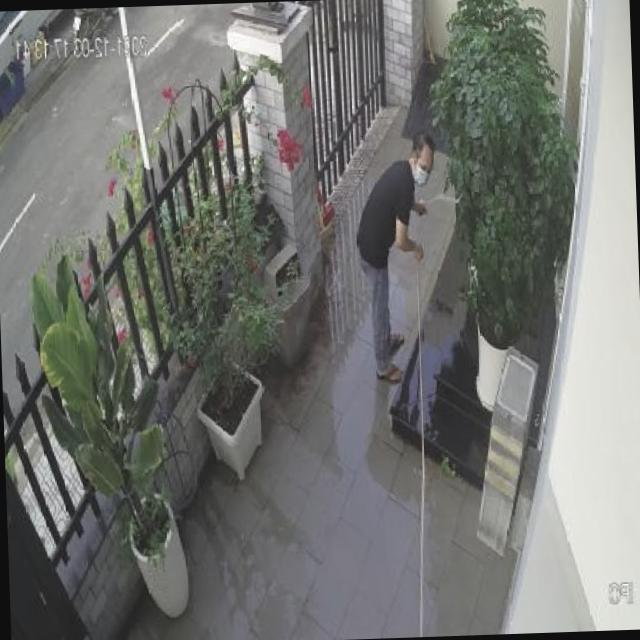Person: (352, 132, 446, 387)
